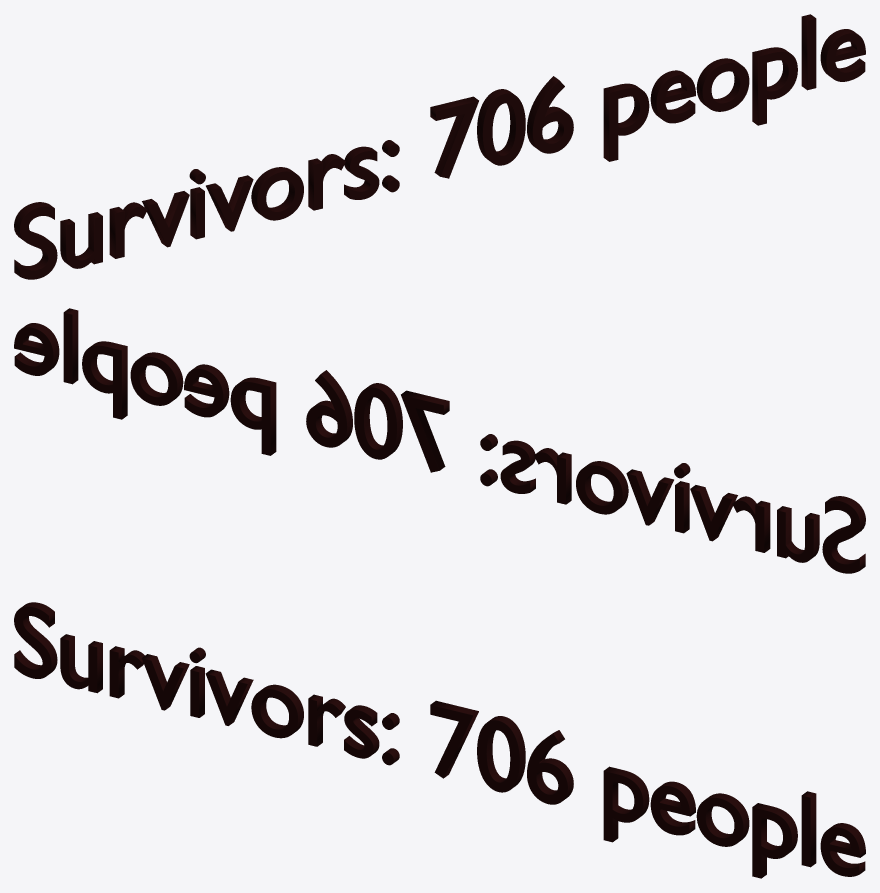
Rendered from text_tragedy02.glb.
3 renders of one model, top to bottom at view 1: azimuth 30°, elevation 25°; view 2: azimuth 150°, elevation 25°; view 3: azimuth 330°, elevation 25°, orthographic.
Parts seen in each view (by area): view 1: tragedy02; view 2: tragedy02; view 3: tragedy02.
Part boxes in pixels (bbox=[...]): tragedy02: bbox=[14, 14, 865, 279]; tragedy02: bbox=[14, 308, 865, 573]; tragedy02: bbox=[14, 602, 865, 878].
Size of the model in its own units: 150 by 15.92 by 1.79.
